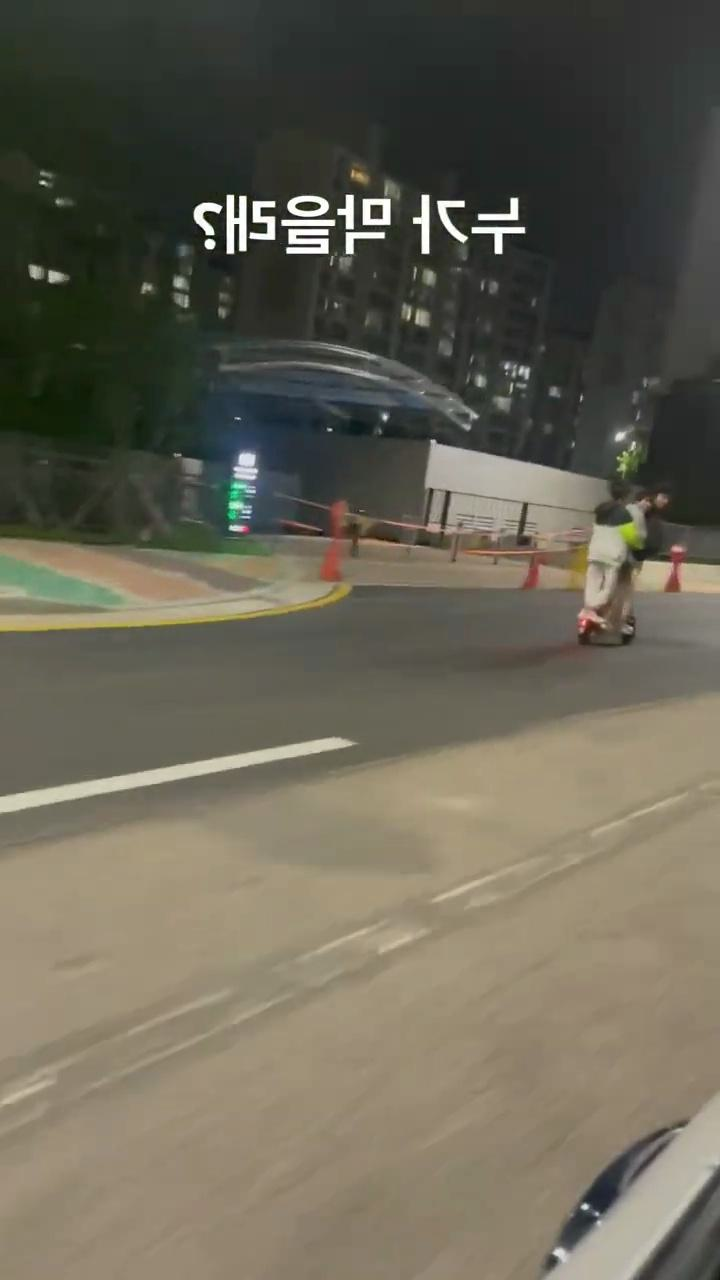multiple: (571, 477, 680, 646)
